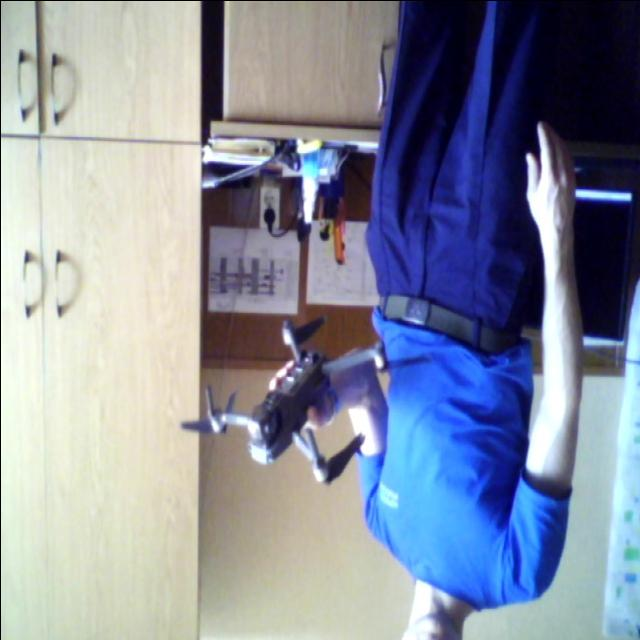drone: (178, 288, 398, 502)
